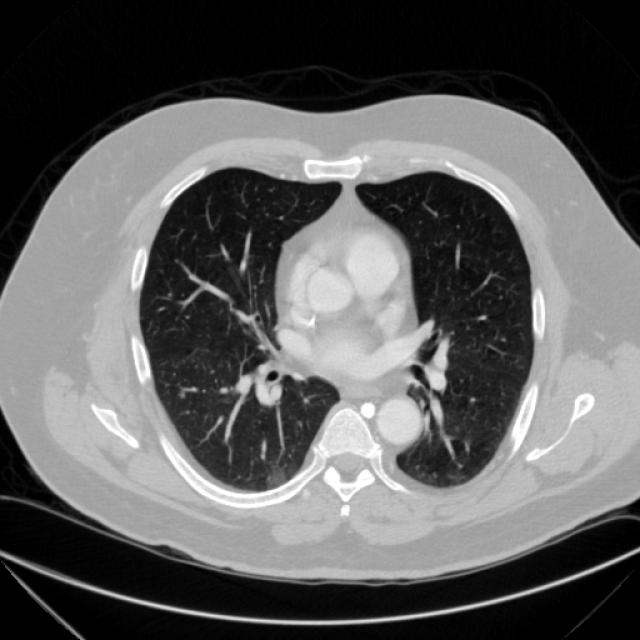nodule: (171, 382, 191, 402)
